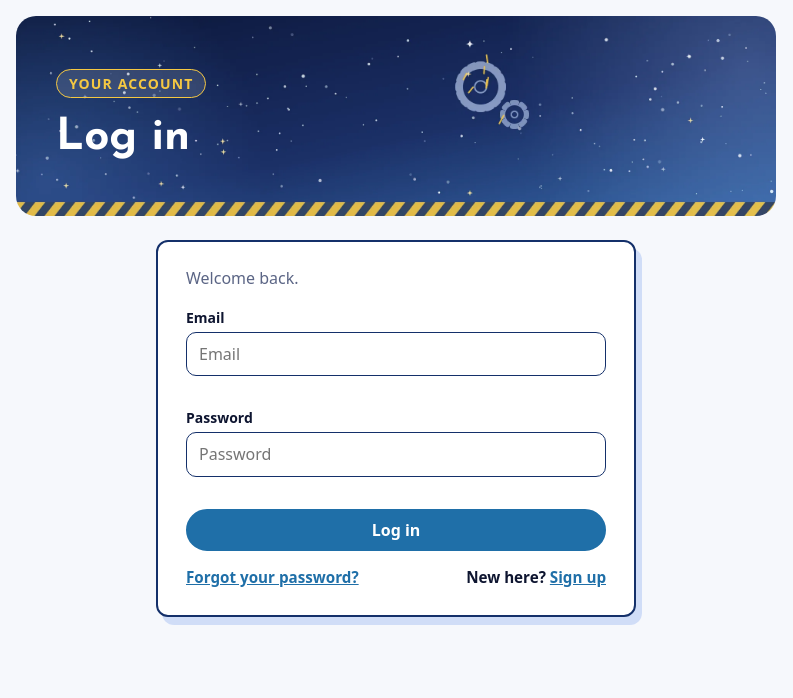
Test case: log in › shows anything else as a plain failure on our side, with nothing for the person to fix
Type "gill@example.com" into the field labelled "Email".
click(396, 354); type("gill@example.com")  # box [186,332,606,376]
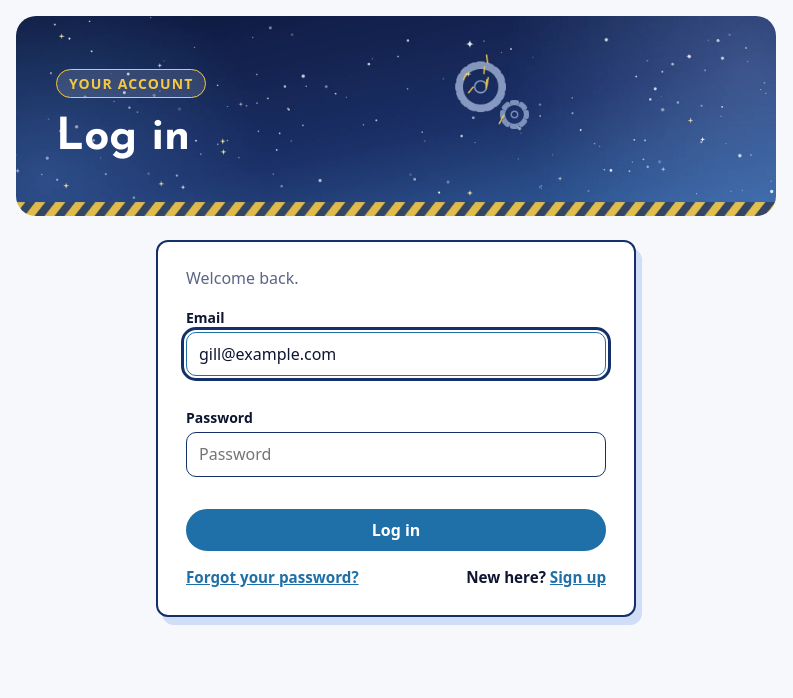
Type "secret123" into the password field labelled "Password".
click(396, 454); type("secret123")  # box [186,432,606,477]
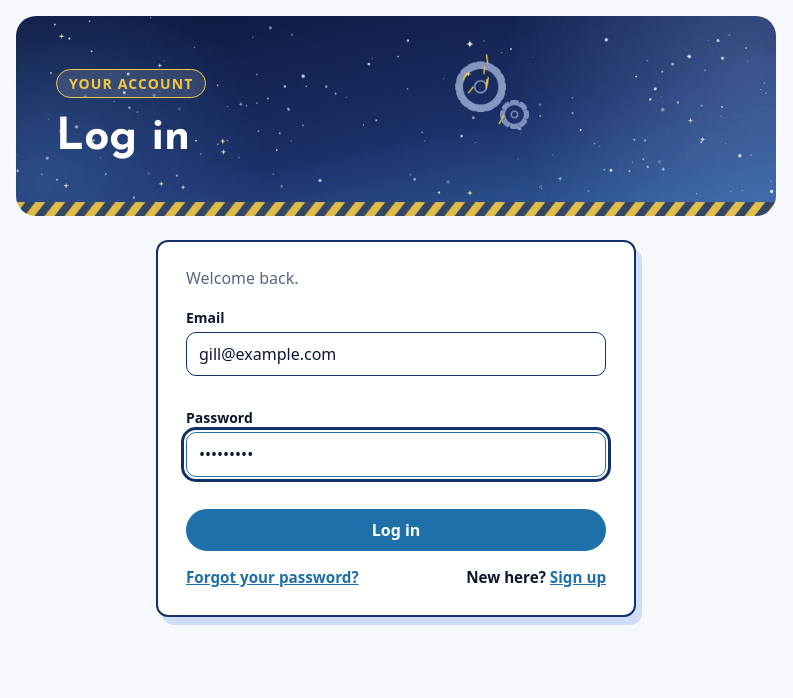
Click the button "Log in".
click(396, 530)  # box [186,509,606,551]
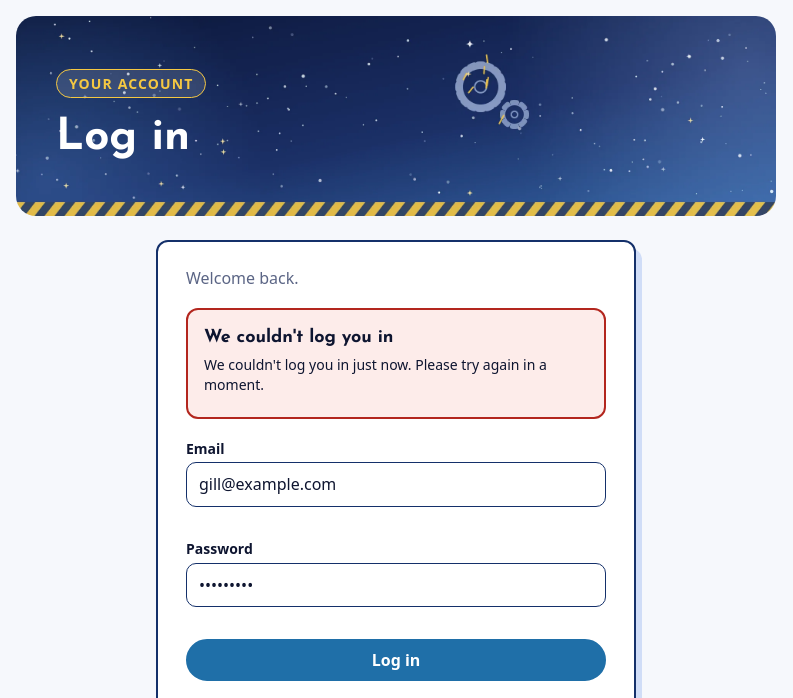
expect the message shows "We couldn't log you in just now. Please try again in a moment.": met, box [204,355,547,394]
expect the number of messages is 1: met, box [186,308,606,419]
